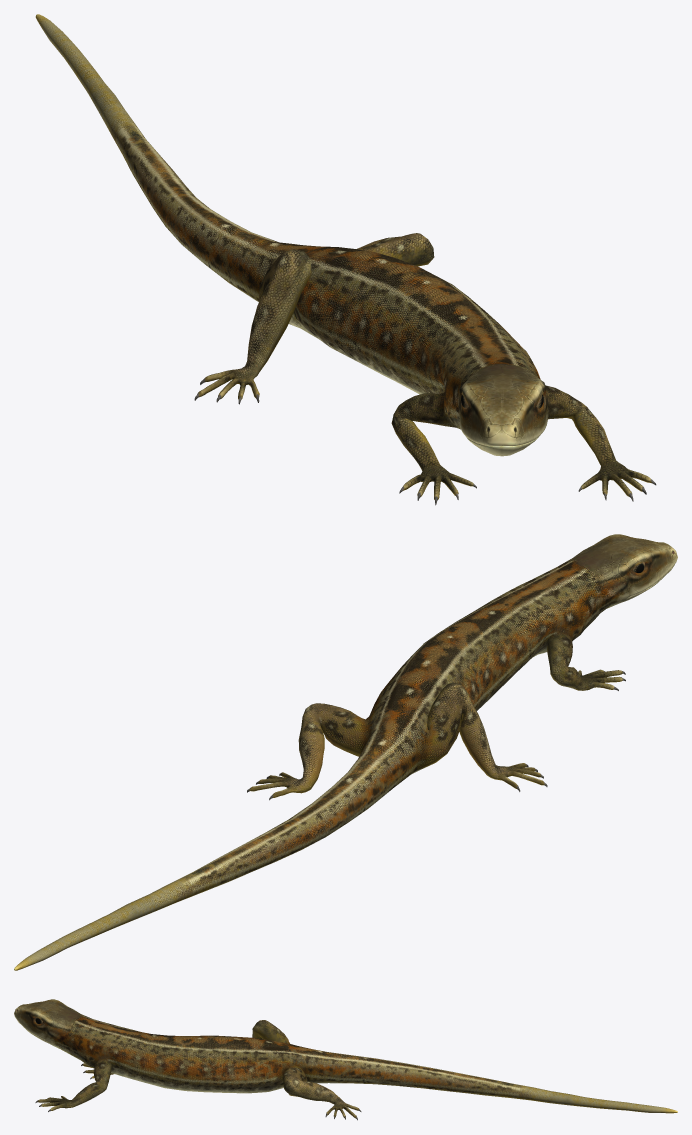
File: Standing68.obj
3 renders of one model, top to bottom at view 1: azimuth 30°, elevation 25°; view 2: azimuth 150°, elevation 25°; view 3: azimuth 270°, elevation 25°, orthographic. The views are drawn at different scales.
Visible parts, largest first — view 1: Lizard; view 2: Lizard; view 3: Lizard.
Part boxes in pixels (x1,y1,x2,y2): Lizard: (35,14,656,505); Lizard: (14,534,677,970); Lizard: (14,999,677,1120).
Size of the model in its own units: 25.34 by 12.04 by 102.
